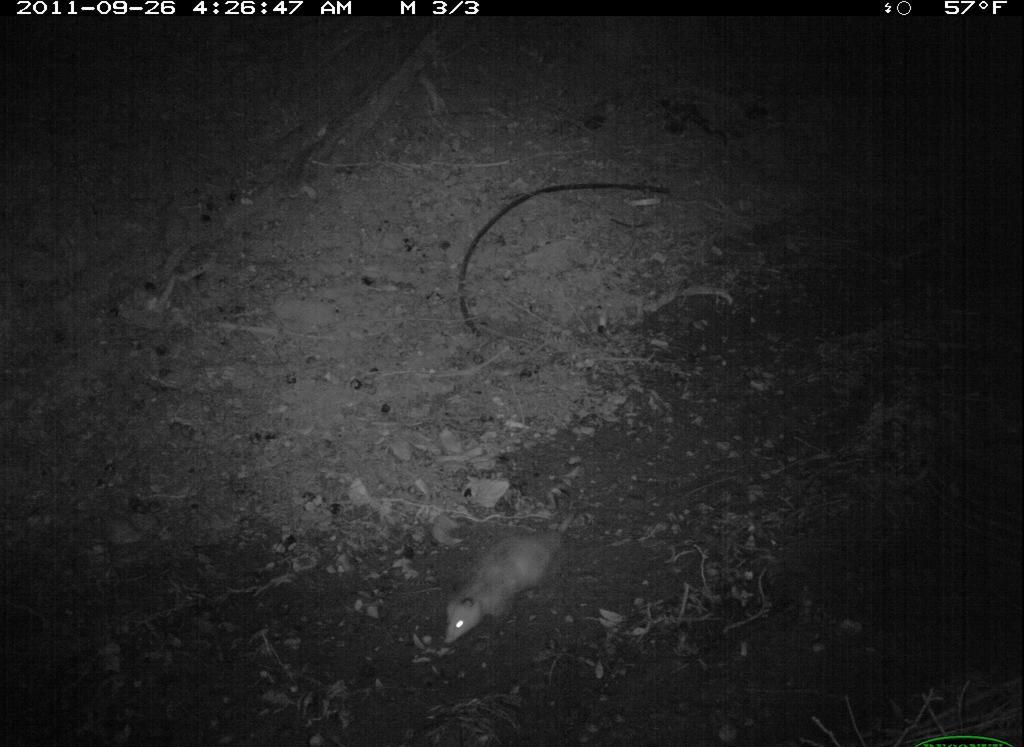opossum: (433, 495, 624, 657)
